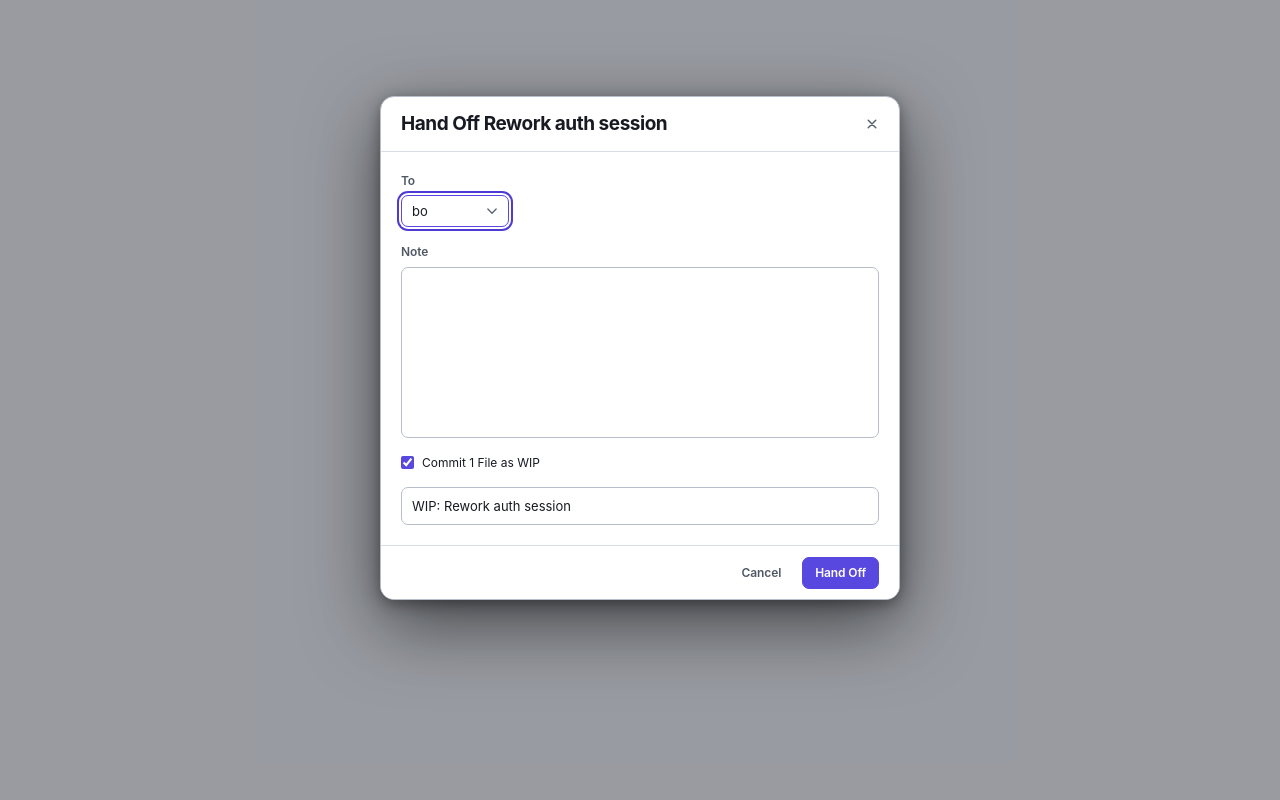
Test: Hand Off… › commits uncommitted work as WIP under a message from the task, unless left out
The width and height of the screenshot is (1280, 800).
Expected: the checkbox labelled "Commit 1 File as WIP" is checked, [401,456,414,469]
Expected: the text box named "Commit message" holds "WIP: Rework auth session", [401,487,879,525]
Click the button "Hand Off": (841, 573) [802,557,879,589]
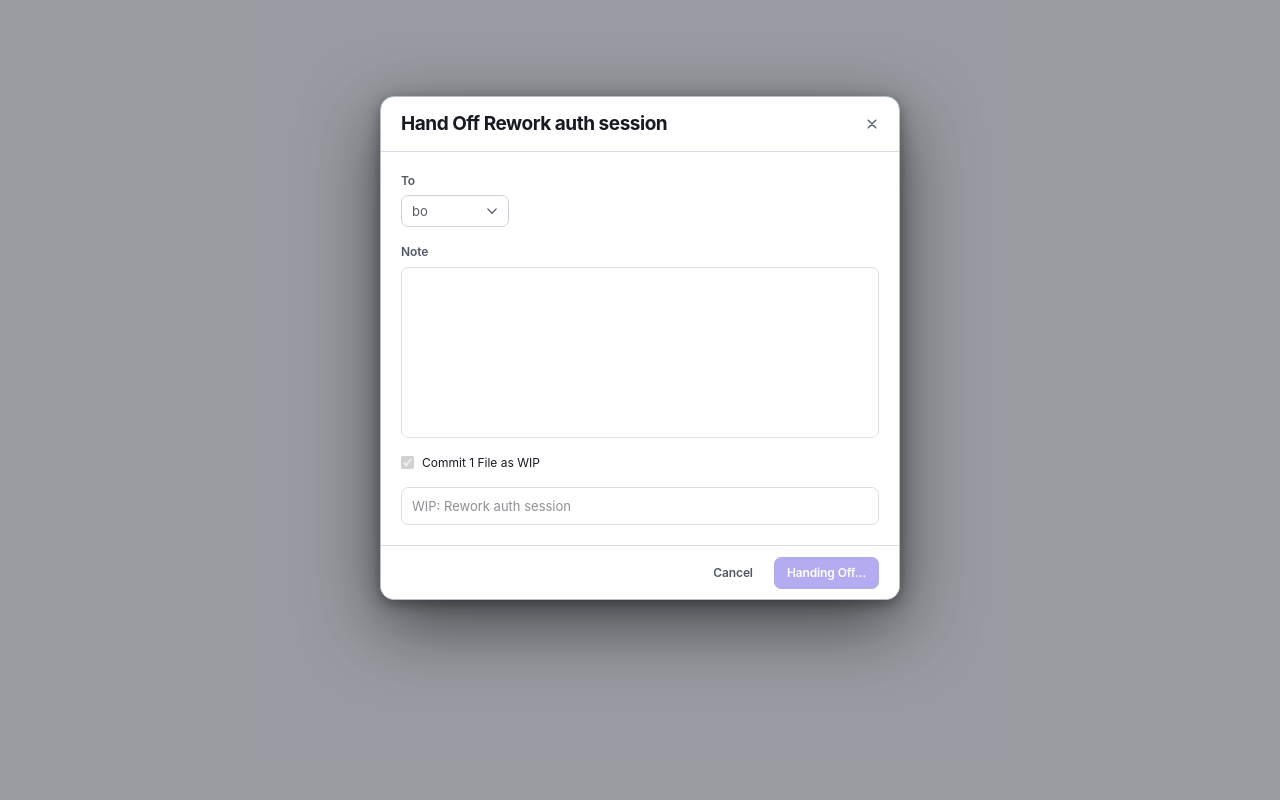
Click the checkbox labelled "Commit 1 File as WIP": (408, 462) [401,456,414,469]
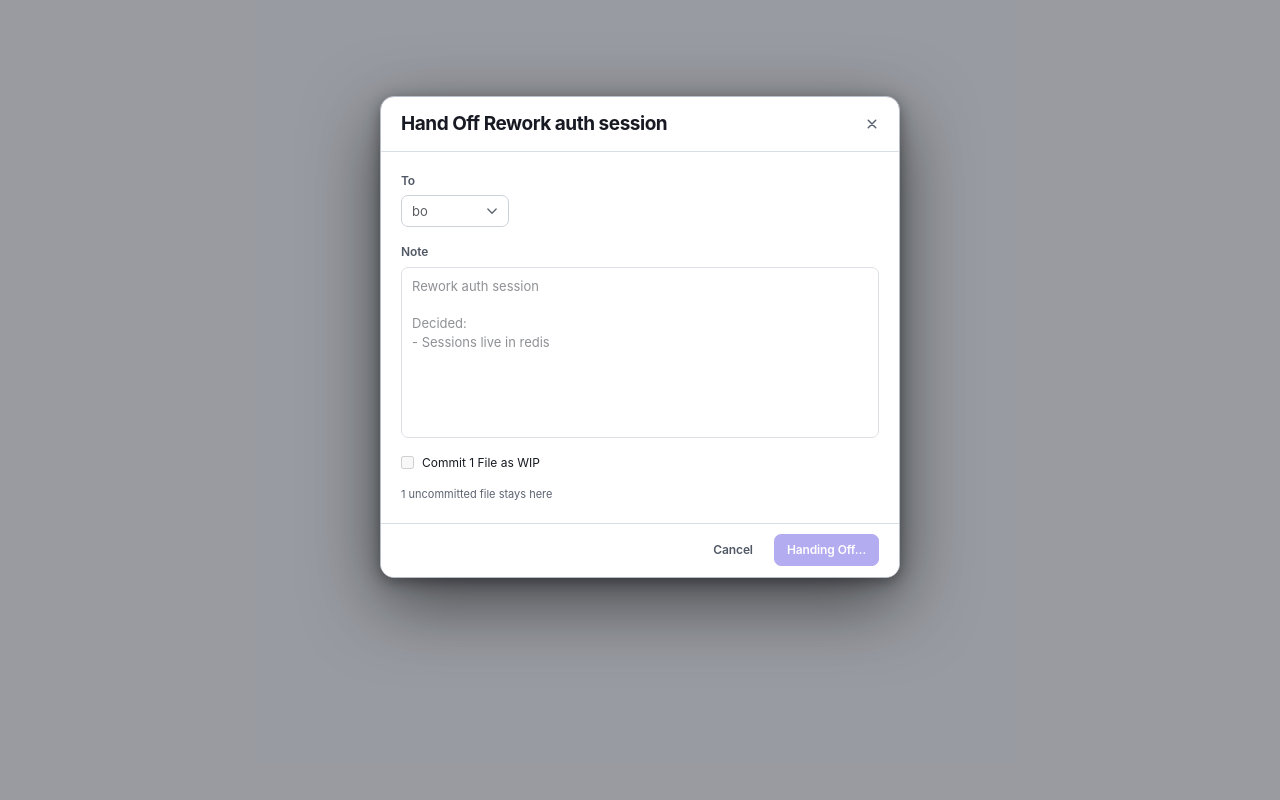
Expected: the text "1 uncommitted file stays here" is shown, [401,487,552,501]
